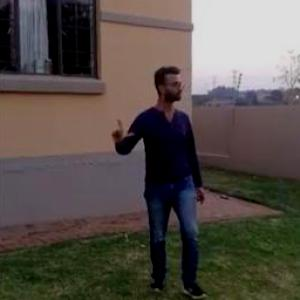land_hand: (105, 114, 136, 150)
